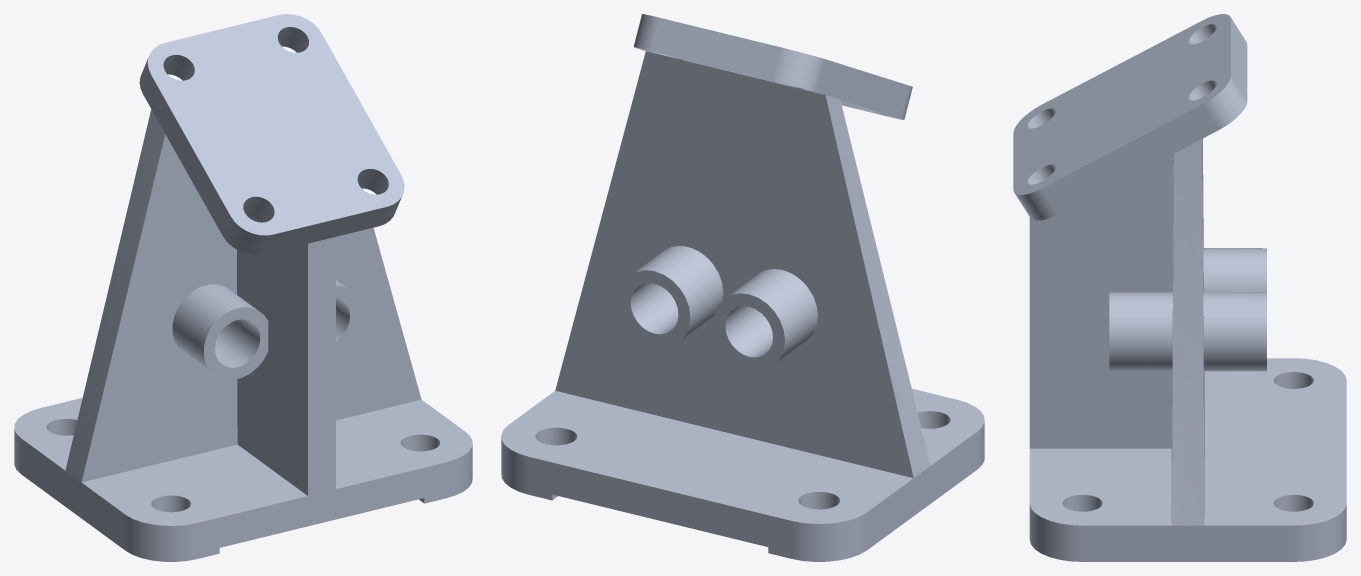
3 views of the same model, side by side, from view 1: azimuth 30°, elevation 25°; view 2: azimuth 150°, elevation 25°; view 3: azimuth 270°, elevation 25° (orthographic). The views are drawn at different scales.
Parts seen in each view (by area): view 1: cw-05-02; view 2: cw-05-02; view 3: cw-05-02.
Boxes of the visible parts, bbox=[...] form: cw-05-02: bbox=[14, 14, 472, 561]; cw-05-02: bbox=[501, 14, 984, 561]; cw-05-02: bbox=[1013, 14, 1346, 561].
Bounding box in the file's own units: 0.0953 × 0.1143 × 0.0801.
